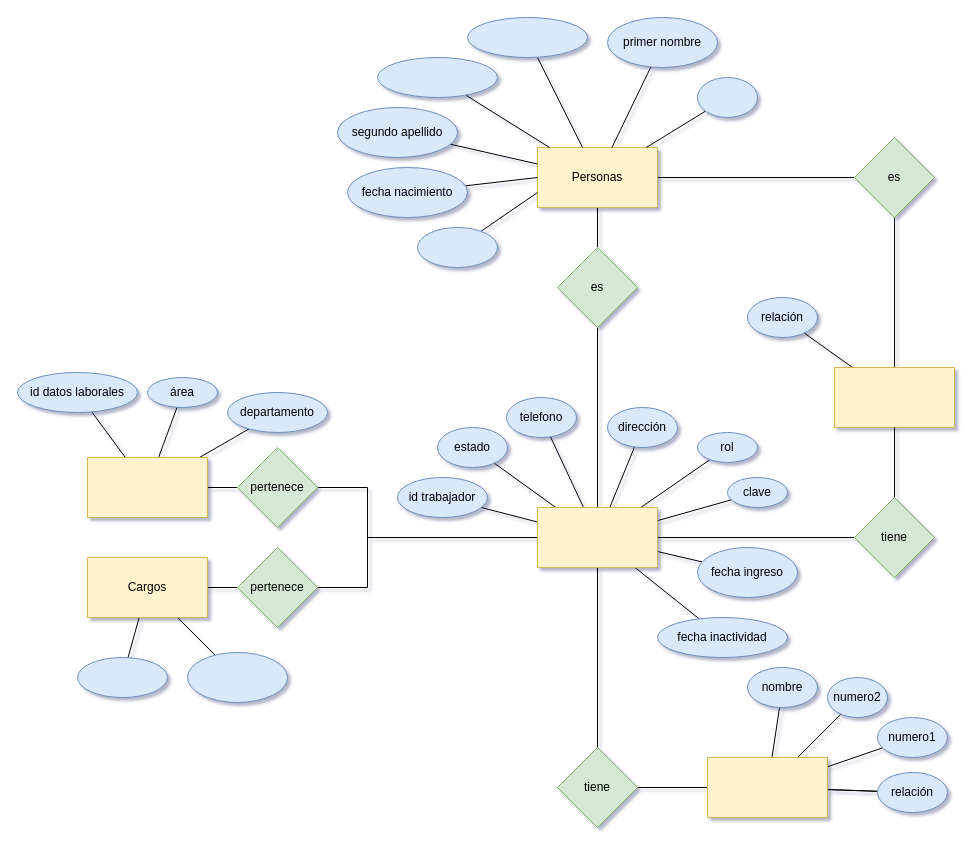
Some shapes in this 978 by 851 pixel diagram are drawn without their labels. The shapes that lost their labels are listed below. From the top down, each one's centre as x and y in pixels, then its label:
pixel 527 37: segundo nombre
pixel 437 77: primer apellido
pixel 727 97: rut
pixel 457 247: sexo
pixel 894 397: Cargas
pixel 147 487: Datos laborales
pixel 597 537: Trabajadores
pixel 122 677: id cargo
pixel 237 677: nombre cargo
pixel 767 787: Contactos de emergencia
